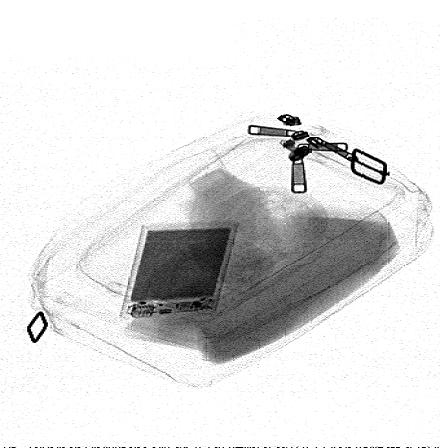Powerbank: (118, 223, 240, 322)
